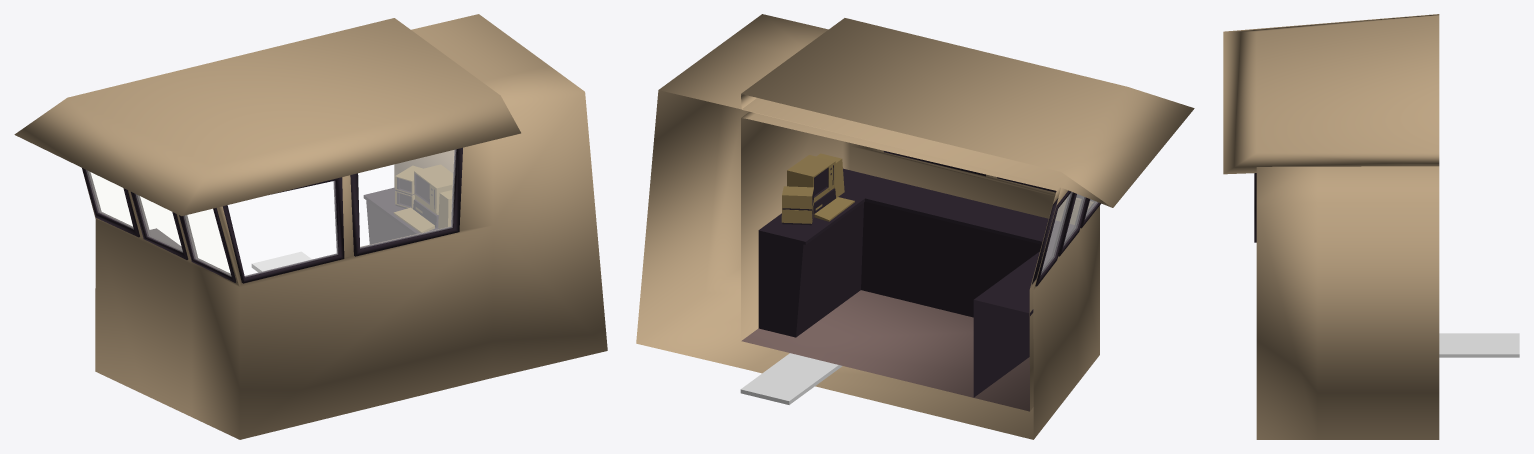
Rendered from DeskComputer1_a1.glb.
3 views of the same model, side by side, from view 1: azimuth 30°, elevation 25°; view 2: azimuth 150°, elevation 25°; view 3: azimuth 270°, elevation 25° (orthographic). The views are drawn at different scales.
Parts seen in each view (by area): view 1: ShipCabin, Comp2, CounterTop2, Desk; view 2: ShipCabin, CounterTop2, Desk, Comp2, SmallComp1.001; view 3: ShipCabin, Desk.
Part boxes in pixels (x1=…): ShipCabin: x1=14, y1=14, x2=607, y2=439; Comp2: x1=393, y1=164, x2=452, y2=232; CounterTop2: x1=149, y1=187, x2=438, y2=249; Desk: x1=251, y1=251, x2=311, y2=272; ShipCabin: x1=636, y1=14, x2=1194, y2=439; CounterTop2: x1=758, y1=168, x2=1074, y2=397; Desk: x1=740, y1=353, x2=842, y2=404; Comp2: x1=787, y1=153, x2=854, y2=221; SmallComp1.001: x1=782, y1=186, x2=813, y2=210; ShipCabin: x1=1223, y1=14, x2=1439, y2=439; Desk: x1=1439, y1=333, x2=1519, y2=357.
Size of the model in its own units: 6.36 by 3.51 by 3.89.
